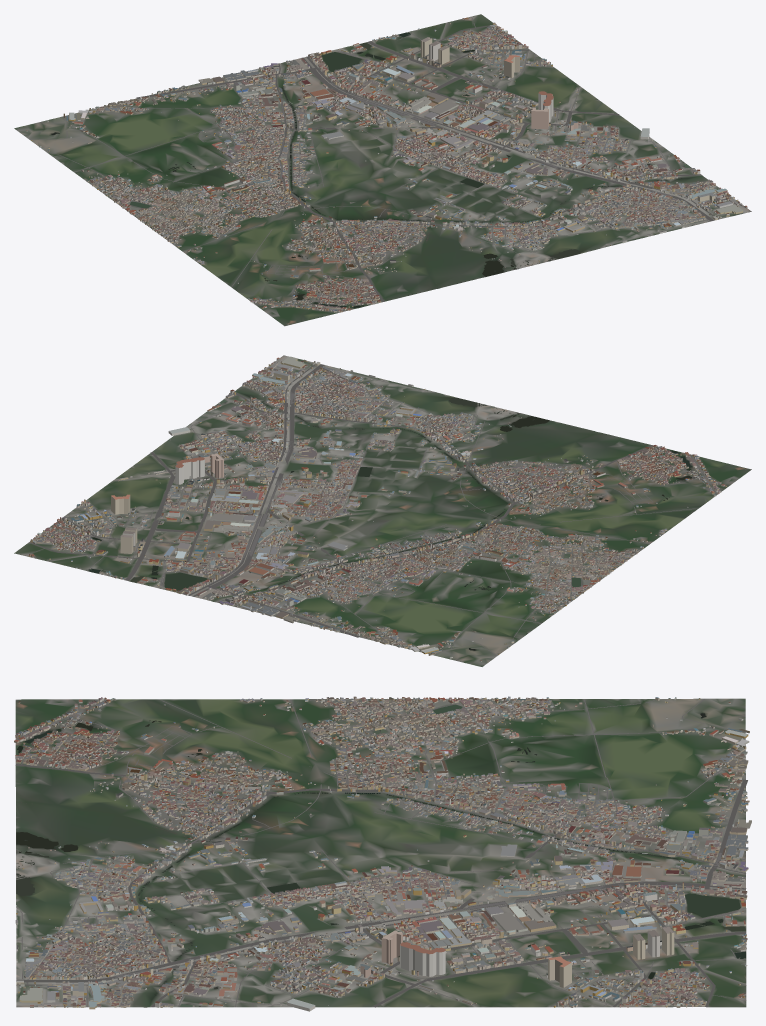
The picture shows the model from 3 angles, top to bottom: view 1: azimuth 30°, elevation 25°; view 2: azimuth 150°, elevation 25°; view 3: azimuth 270°, elevation 25°; orthographic projection. The views are drawn at different scales.
Parts seen in each view (by area): view 1: ground, buildings, roads, water; view 2: ground, buildings, roads, water; view 3: ground, buildings, roads, water.
Boxes of the visible parts, x1=… form: ground: x1=14, y1=14, x2=751, y2=326; buildings: x1=26, y1=17, x2=747, y2=324; roads: x1=29, y1=16, x2=718, y2=311; water: x1=51, y1=32, x2=690, y2=307; ground: x1=14, y1=355, x2=751, y2=666; buildings: x1=29, y1=356, x2=746, y2=661; roads: x1=24, y1=364, x2=720, y2=655; water: x1=88, y1=397, x2=691, y2=650; ground: x1=15, y1=698, x2=746, y2=1007; buildings: x1=14, y1=696, x2=751, y2=1011; roads: x1=15, y1=698, x2=747, y2=1007; water: x1=16, y1=704, x2=745, y2=1006.
Size of the model in its own units: 2848 by 107 by 2834.
